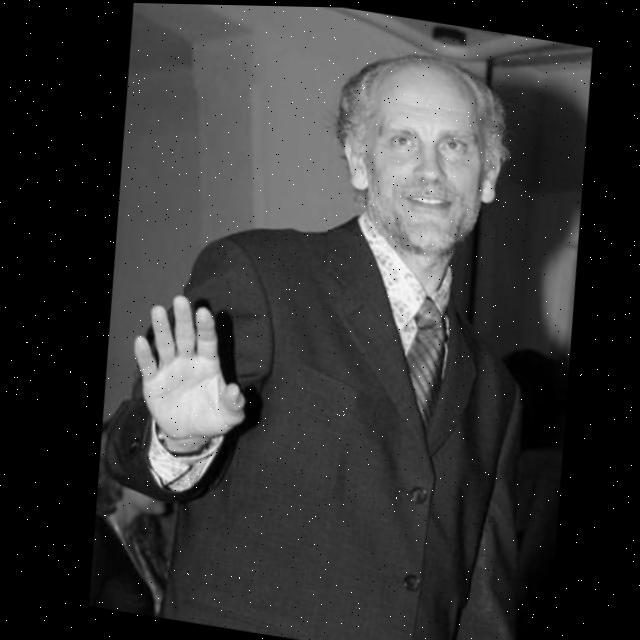face: (316, 35, 505, 270)
